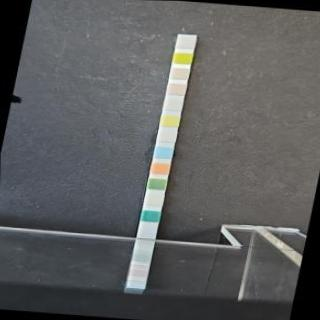mark: (168, 66, 190, 80), (153, 145, 173, 159), (174, 37, 196, 49), (160, 114, 180, 127), (143, 194, 163, 207), (156, 130, 177, 142), (172, 52, 192, 64), (166, 84, 186, 96), (164, 99, 184, 111), (150, 162, 170, 174), (146, 178, 166, 190), (140, 210, 160, 222)
